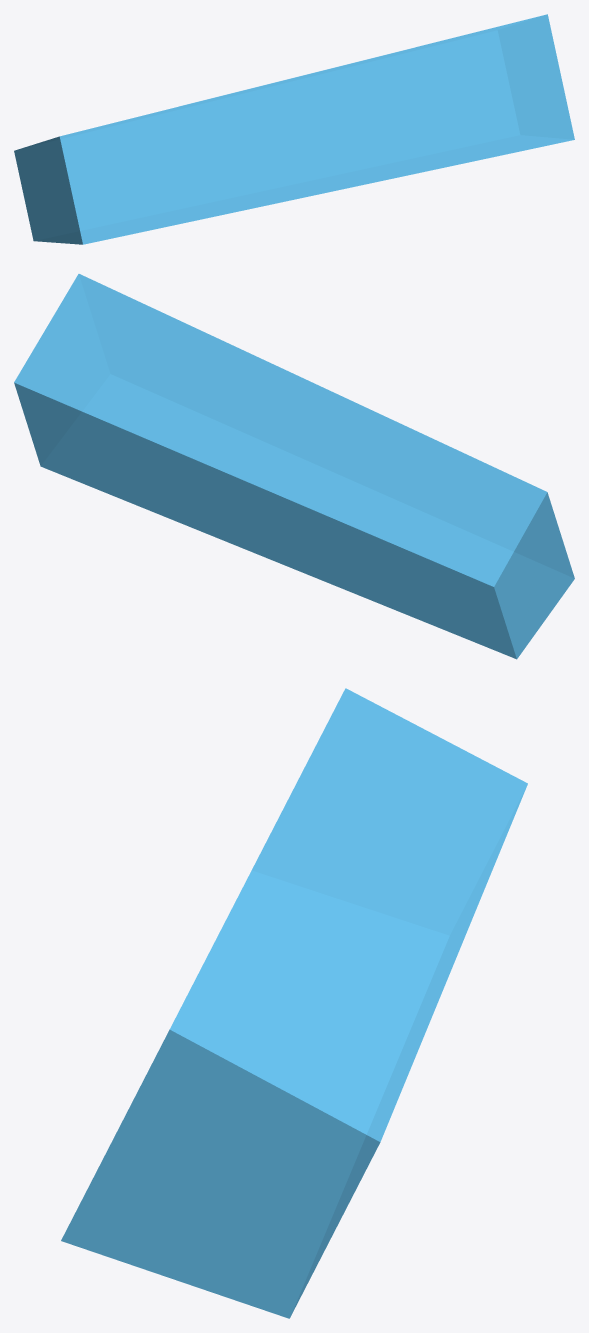
Rendered from Event_420107950_HErechit_24.fbx.
3 renders of one model, top to bottom at view 1: azimuth 30°, elevation 25°; view 2: azimuth 150°, elevation 25°; view 3: azimuth 270°, elevation 25°, orthographic. The views are drawn at different scales.
Visible parts, largest first — view 1: Model; view 2: Model; view 3: Model.
Boxes of the visible parts, x1,y1,x2,y2 form: Model: (14,14,574,244); Model: (14,274,574,659); Model: (61,688,527,1318).
Size of the model in its own units: 1.63 by 0.5929 by 0.7391.
